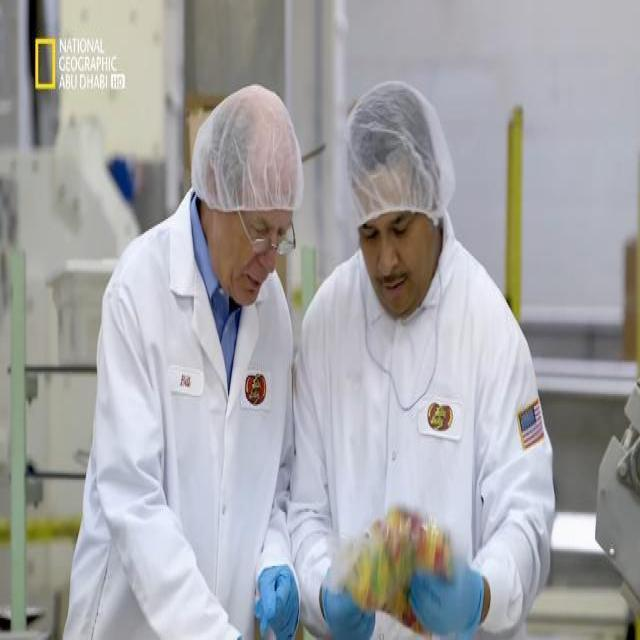gloved_hand: (302, 559, 386, 640), (408, 556, 492, 633), (243, 557, 313, 640)
